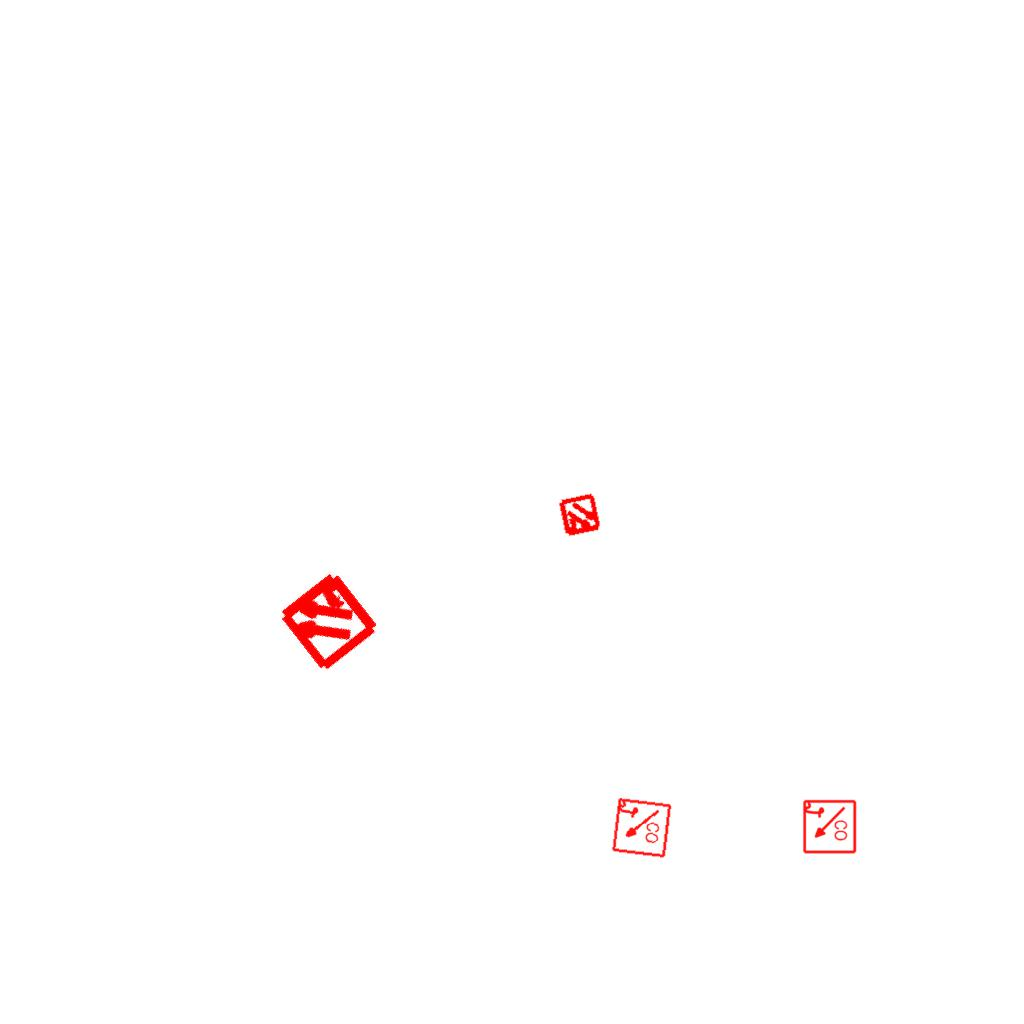OT_Multisensormelder_(Kombination_RMO_WMD): (248, 540, 407, 699), (546, 482, 614, 550)
ROA_Rauchmelder_optisch_mit_Signalgeber_(Sockelsirene): (609, 796, 673, 860), (801, 799, 857, 855)
